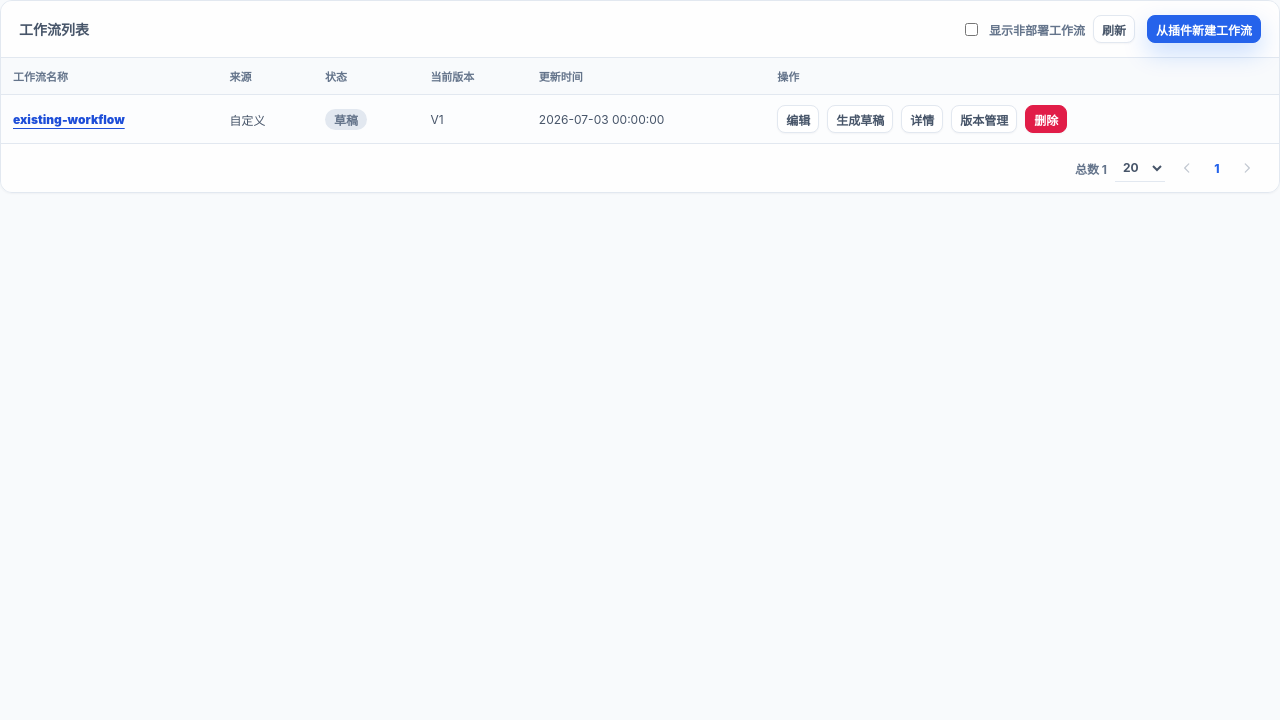
Test case: WorkflowTemplatesView › 编辑器保存草稿只更新当前草稿版本，不创建新版本
Click the button "编辑" at [798, 119], box [777,105,819,133]
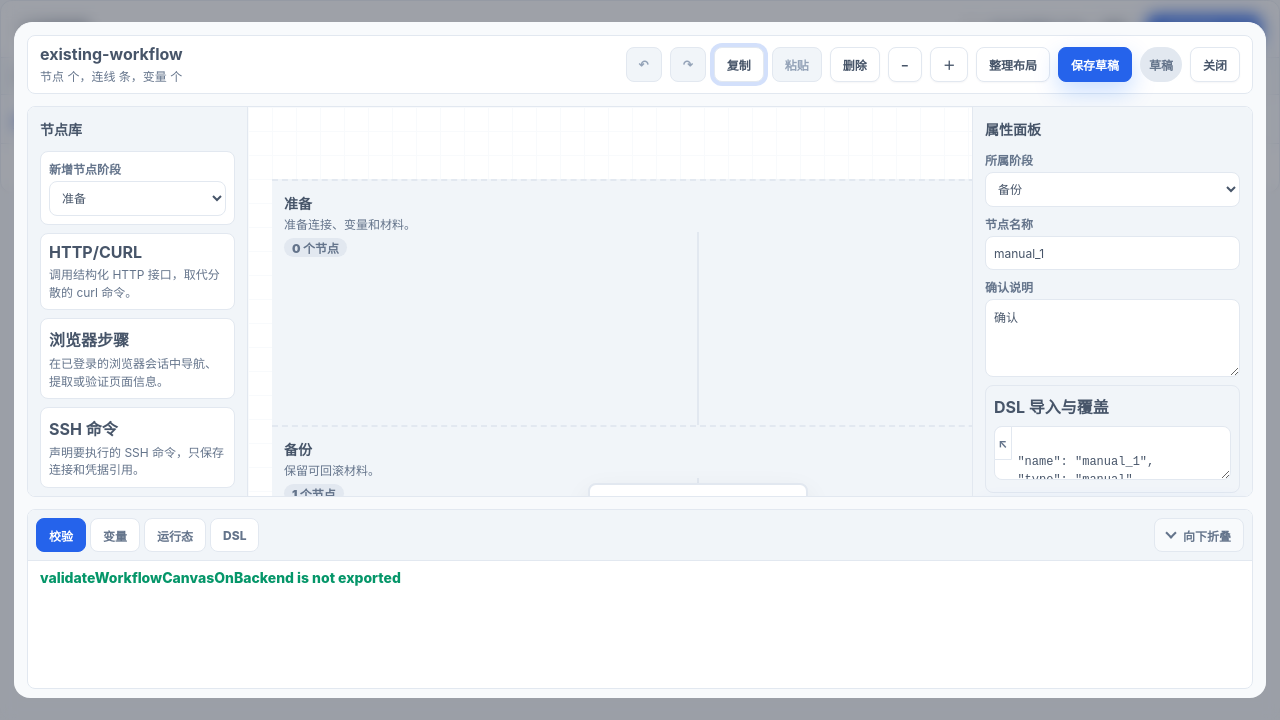
Now the button "保存草稿" is shown
Click the button "保存草稿" at [1095, 65], box [1058,47,1132,82]
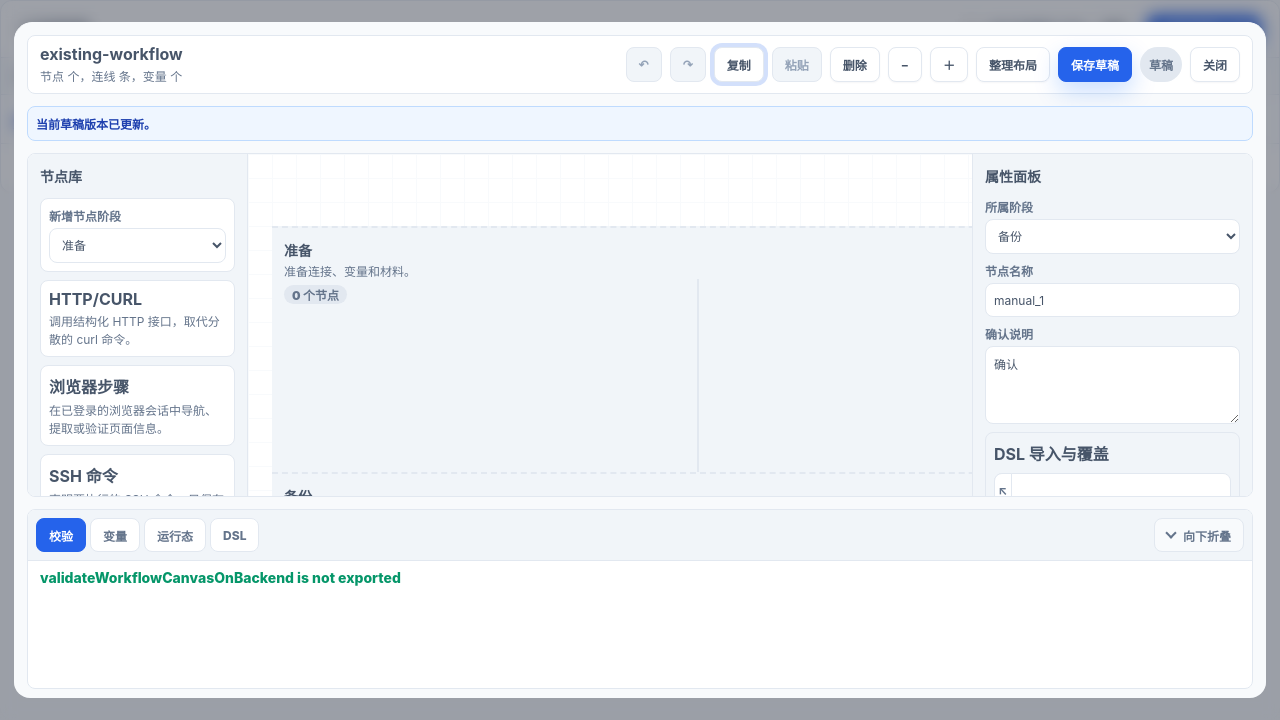
Now the text "当前草稿版本已更新。" is shown, box [27,106,1253,141]
